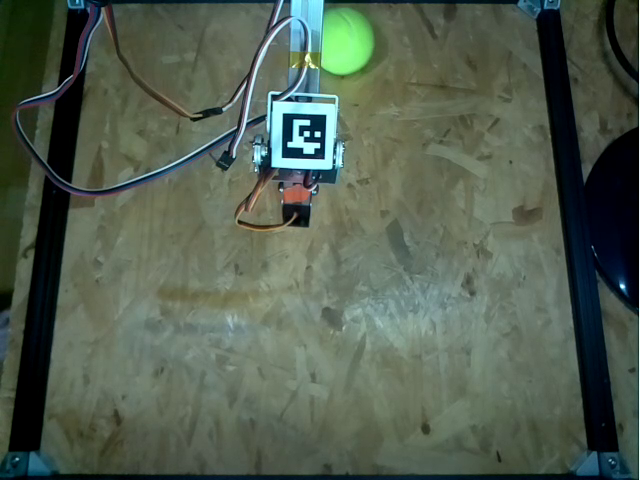tennis_ball: (322, 6, 377, 77)
